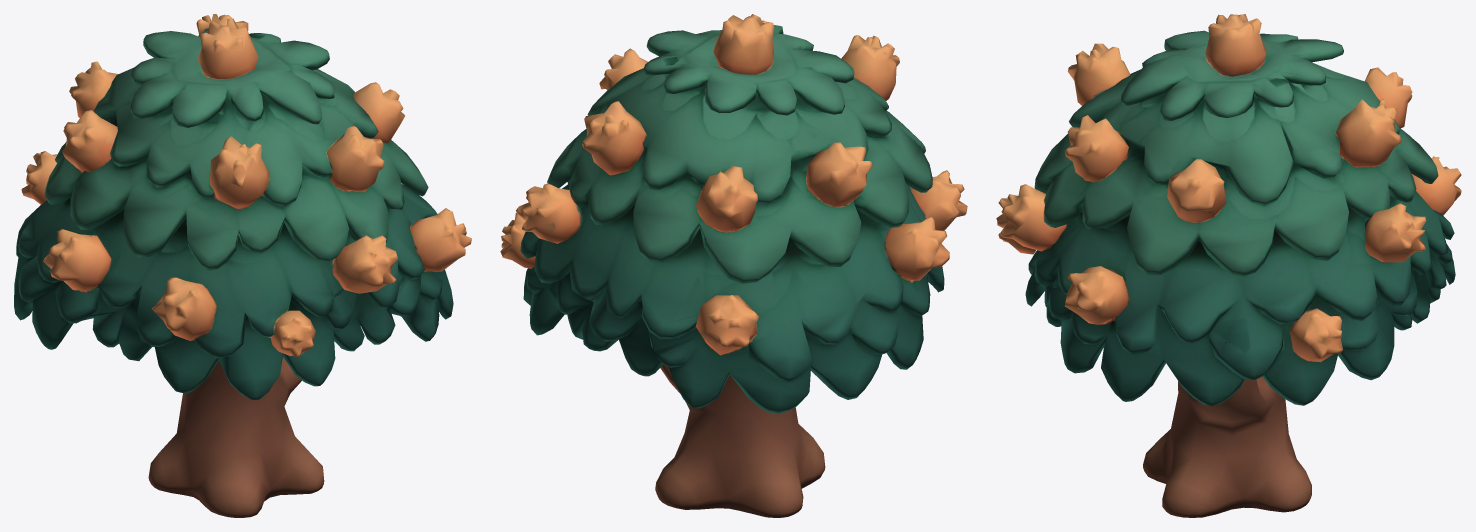
Rendered from spikefruit-tree.glb.
3 views of the same model, side by side, from view 1: azimuth 30°, elevation 25°; view 2: azimuth 150°, elevation 25°; view 3: azimuth 270°, elevation 25° (orthographic). The views are drawn at different scales.
Parts seen in each view (by area): view 1: Spikefruit Tree; view 2: Spikefruit Tree; view 3: Spikefruit Tree.
Boxes of the visible parts, box(x1,y1,x2,y2) form: Spikefruit Tree: box(14, 14, 471, 517); Spikefruit Tree: box(500, 14, 967, 517); Spikefruit Tree: box(996, 14, 1461, 517).
Size of the model in its own units: 0.8691 by 0.998 by 0.9043.
1 material, 1 textured.
